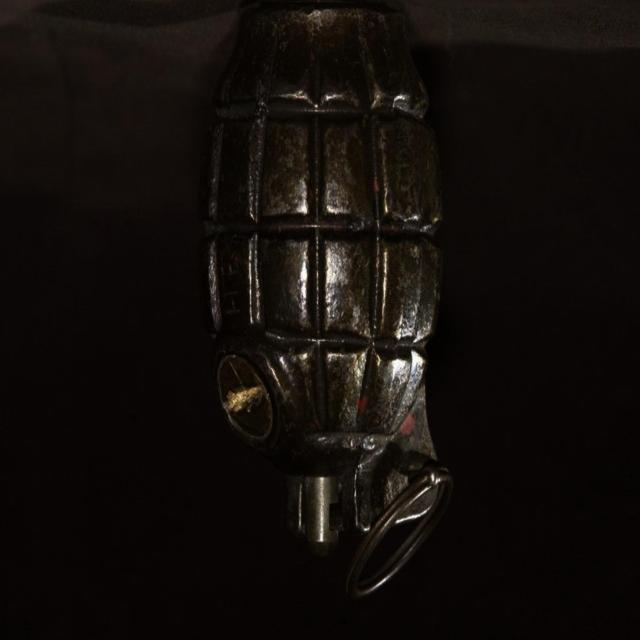grenade: (201, 2, 452, 599)
